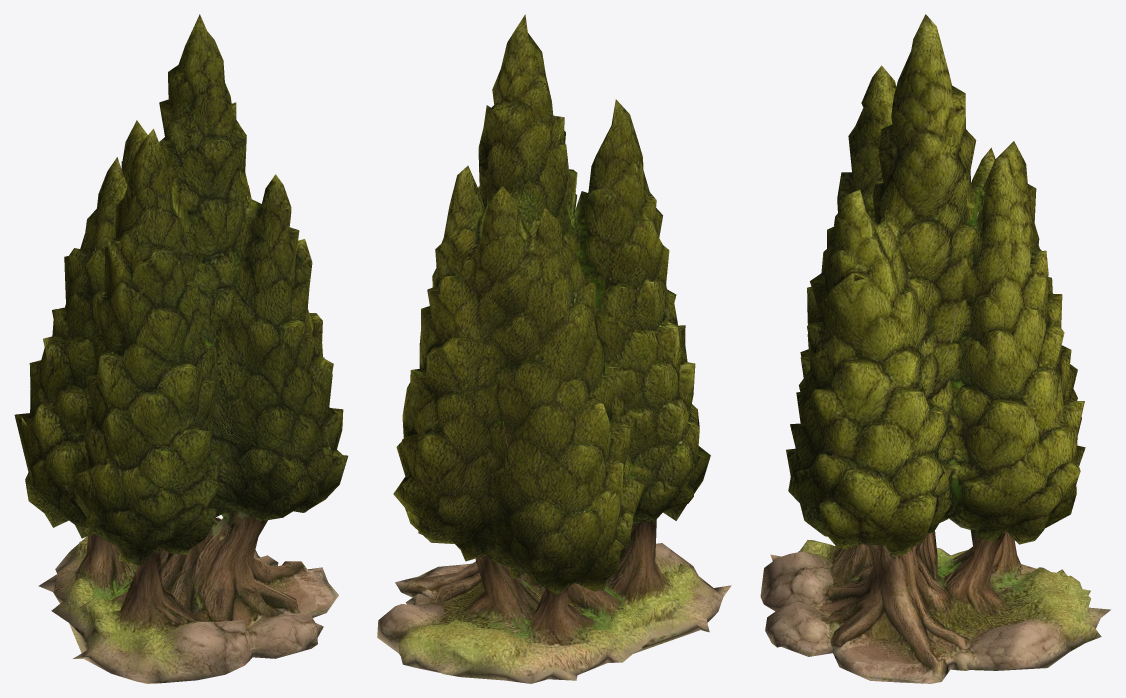
Rendered from tree-cluster.glb.
The picture shows the model from 3 angles, left to right: view 1: azimuth 30°, elevation 25°; view 2: azimuth 150°, elevation 25°; view 3: azimuth 270°, elevation 25°; orthographic projection. The views are drawn at different scales.
Parts seen in each view (by area): view 1: Mesh1.0; view 2: Mesh1.0; view 3: Mesh1.0.
Part boxes in pixels (x1,y1,x2,y2): Mesh1.0: (14, 14, 348, 683); Mesh1.0: (377, 14, 731, 683); Mesh1.0: (760, 14, 1110, 683).
Bounding box in the file's own units: 0.9483 × 1.91 × 0.9958.
1 material, 1 textured.
